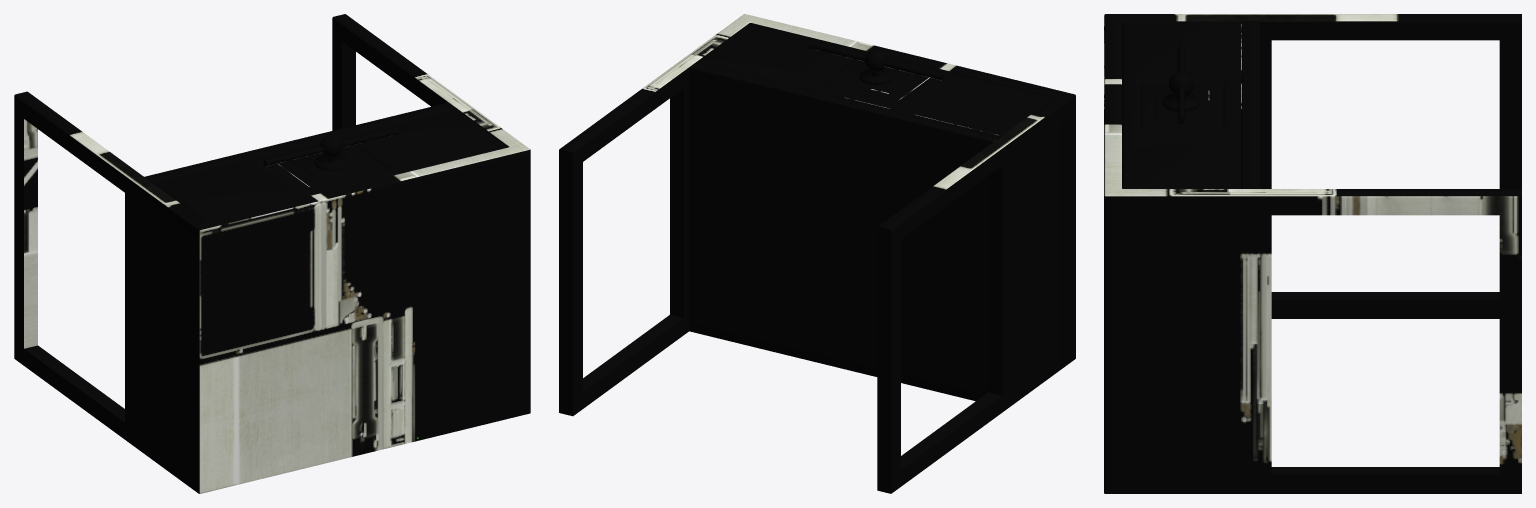
3 views of the same model, side by side, from view 1: azimuth 30°, elevation 25°; view 2: azimuth 150°, elevation 25°; view 3: azimuth 270°, elevation 25° (orthographic). The views are drawn at different scales.
Bounding box in the file's own units: 0.5922 × 0.4978 × 0.5721.
